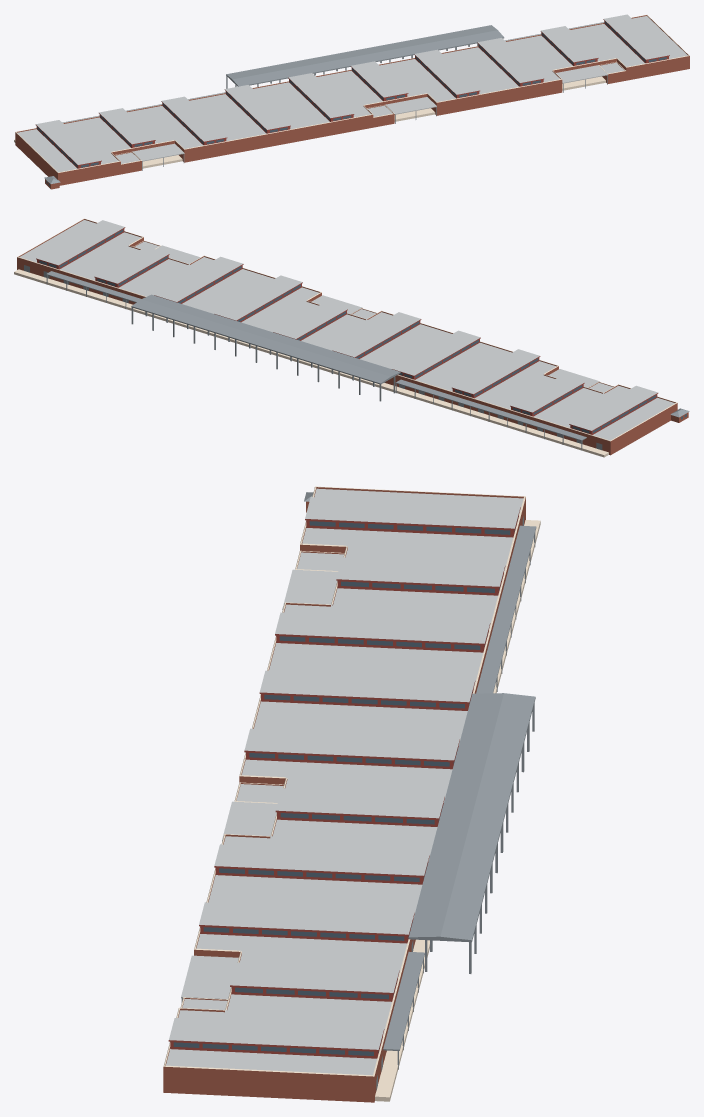
The picture shows the model from 3 angles, top to bottom: view 1: azimuth 30°, elevation 25°; view 2: azimuth 150°, elevation 25°; view 3: azimuth 270°, elevation 25°; orthographic projection. The views are drawn at different scales.
Parts seen in each view (by area): view 1: hercules-south; view 2: hercules-south; view 3: hercules-south.
Part boxes in pixels (x1,y1,x2,y2): hercules-south: (14,14,689,189); hercules-south: (14,218,689,457); hercules-south: (163,486,540,1102).
Bounding box in the file's own units: 377 × 10.6 × 100.
